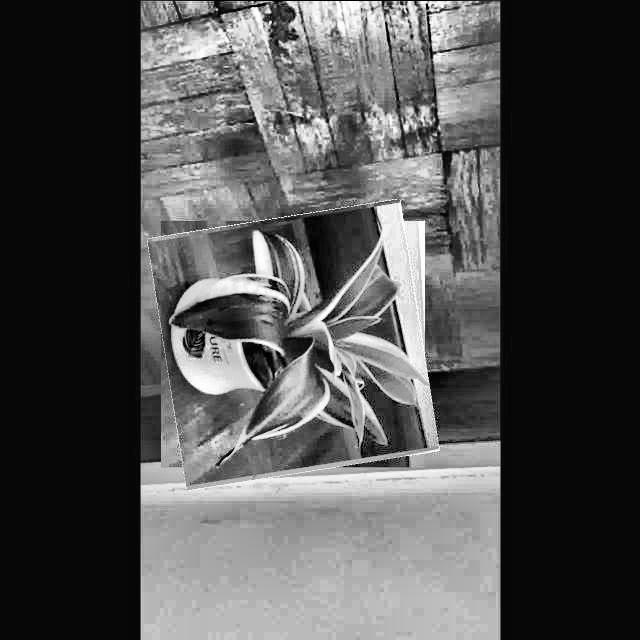plants: (156, 207, 430, 481)
